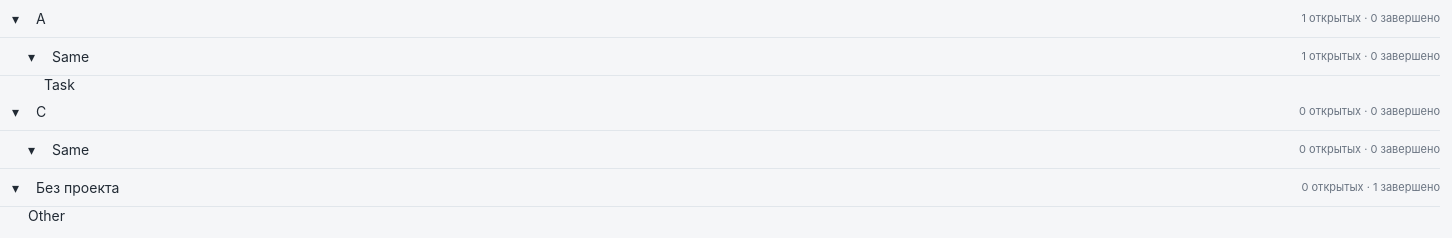
collapses complete nested branches without moving tasks in a read only tree
Expected: the text "Task" is shown, [44,76,75,93]
Click the button named "Развернуть или свернуть A" at (20, 18), box [12,6,28,31]
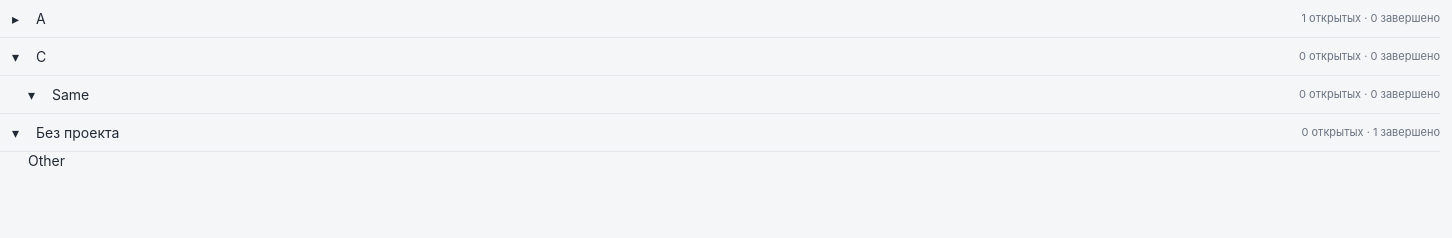
Expected: the text "Other" is shown, [28,152,65,169]
Result: the text "Task" is gone
Click the button named "Развернуть или свернуть A" at (20, 18), box [12,6,28,31]
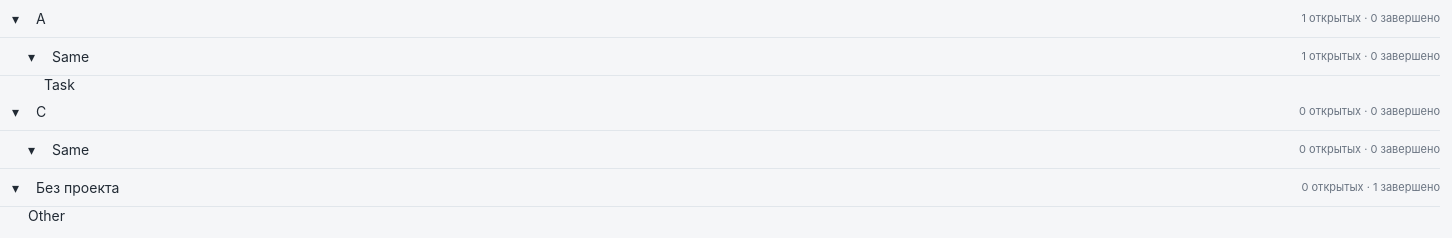
Result: the text "Task" is shown at [44,76,75,93]
